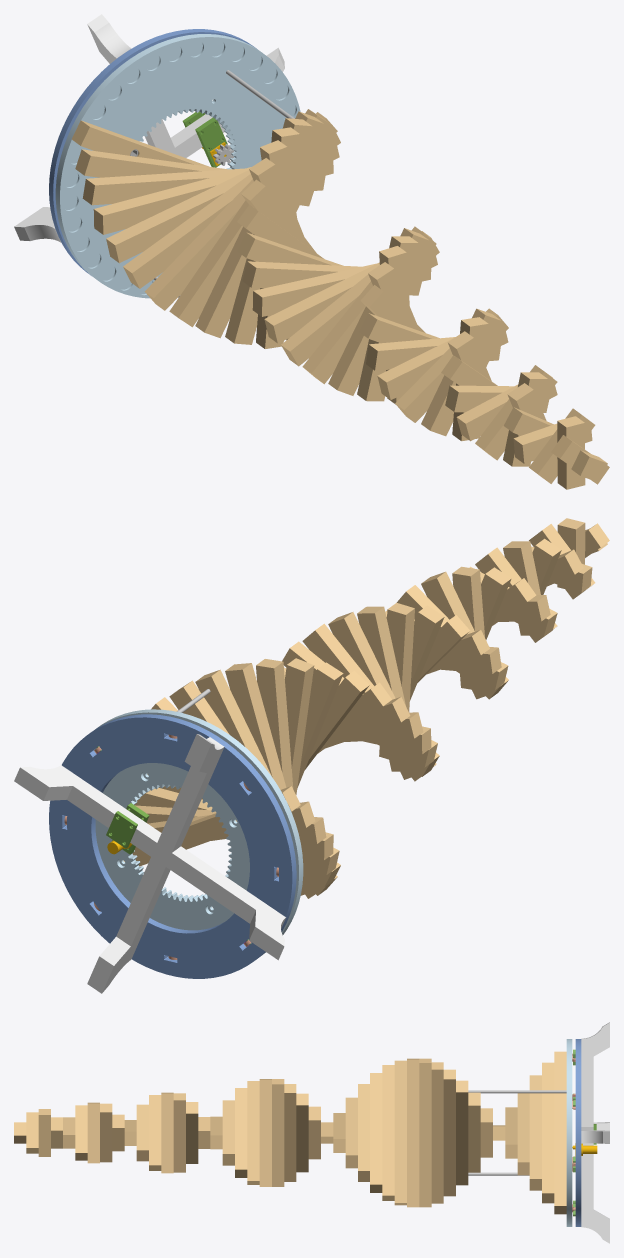
File: helical-flame-coloured2.glb
The picture shows the model from 3 angles, top to bottom: view 1: azimuth 30°, elevation 25°; view 2: azimuth 150°, elevation 25°; view 3: azimuth 270°, elevation 25°; orthographic projection. The views are drawn at different scales.
Visible parts, largest first — view 1: Part 13, Spur gear (59.99999999999999 teeth), Part 3, Part 5, Part 4, Part 8; view 2: Part 13, Part 3, Spur gear (59.99999999999999 teeth), Part 5, Part 4, Part 9; view 3: Part 13, Part 4, Part 3, Spur gear (59.99999999999999 teeth), Part 5, Part 52.
Boxes of the visible parts, x1,y1,x2,y2 form: Part 13: (71, 109, 609, 489); Spur gear (59.99999999999999 teeth): (55, 34, 300, 298); Part 3: (49, 29, 256, 275); Part 5: (14, 47, 284, 242); Part 4: (87, 14, 174, 151); Part 8: (195, 117, 227, 167); Part 13: (123, 518, 609, 898); Part 3: (49, 714, 296, 978); Spur gear (59.99999999999999 teeth): (94, 709, 303, 956); Part 5: (14, 765, 285, 960); Part 4: (87, 734, 224, 993); Part 9: (106, 811, 137, 848); Part 13: (14, 1051, 566, 1214); Part 4: (581, 1022, 609, 1243); Part 3: (575, 1039, 581, 1226); Spur gear (59.99999999999999 teeth): (566, 1039, 572, 1226); Part 5: (581, 1122, 609, 1143); Part 52: (468, 1090, 566, 1093).
Size of the model in its own units: 0.6491 by 0.6491 by 1.85.
